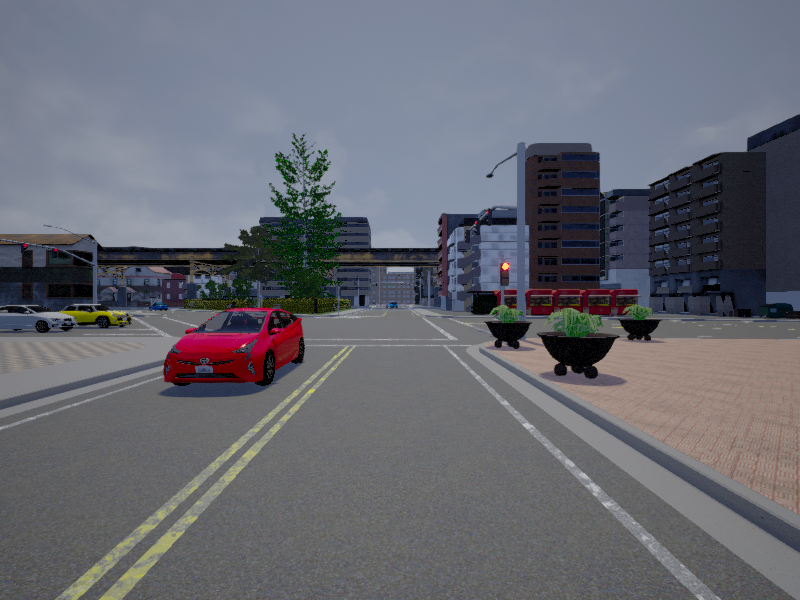Benign: (166, 310, 304, 385), (1, 304, 79, 334), (61, 305, 133, 328), (150, 301, 167, 312), (386, 302, 400, 312)
